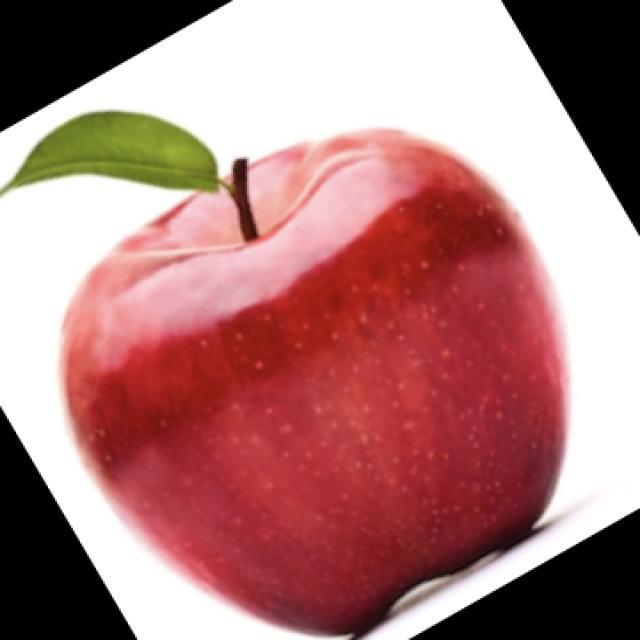Apple: (57, 125, 570, 638)
